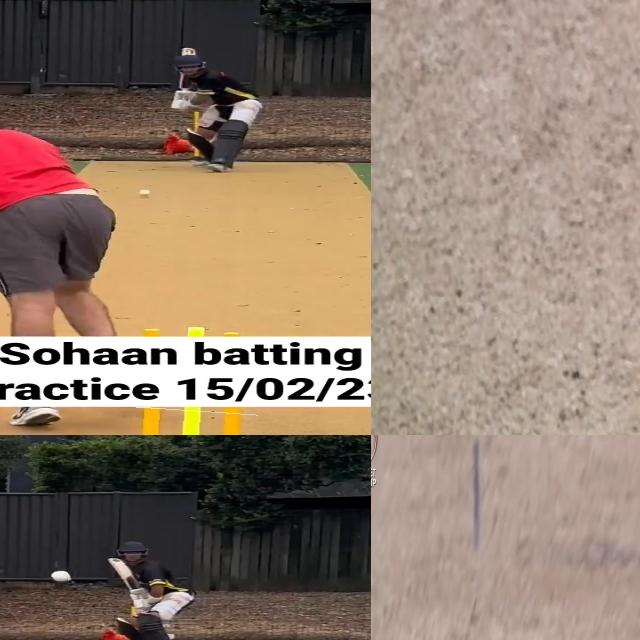Cricket ball: (50, 570, 72, 583), (138, 190, 152, 198)
Stumps: (127, 405, 258, 435)
